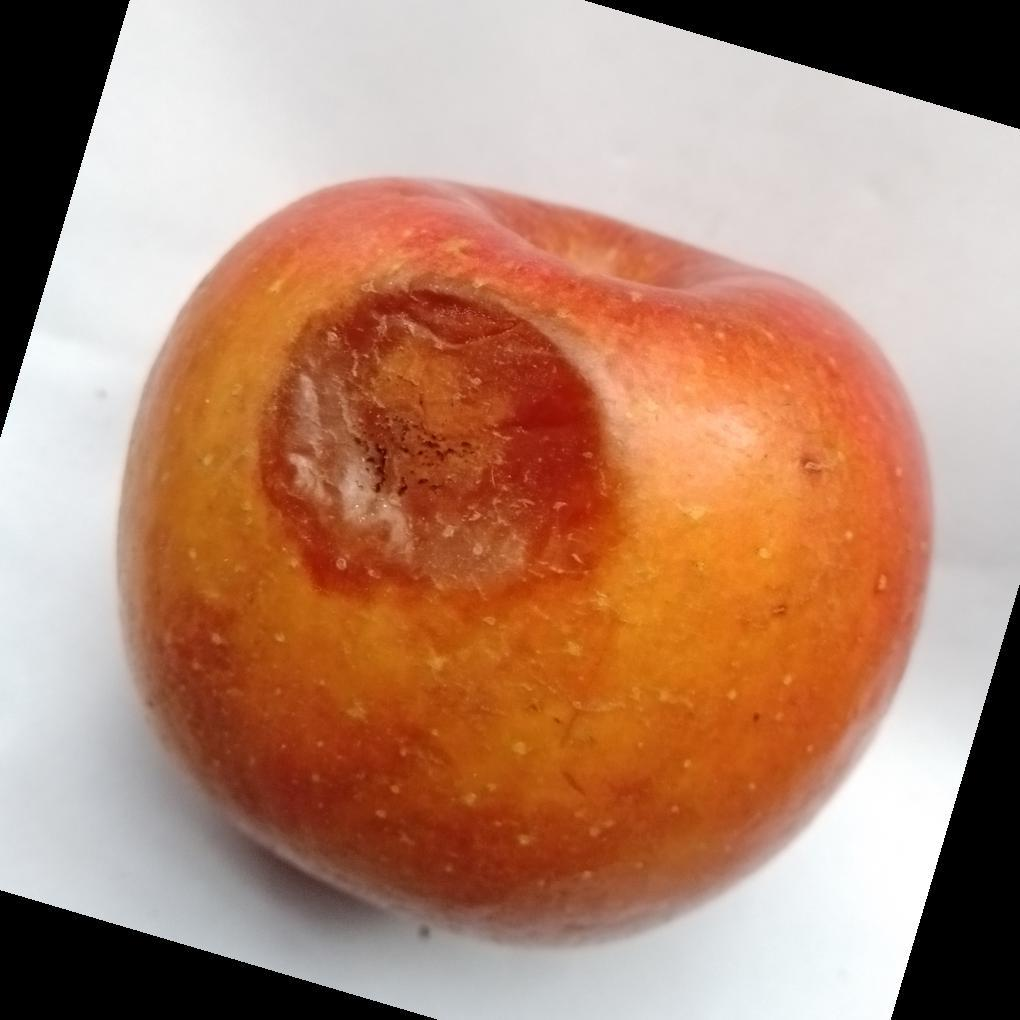FreshOrange: (109, 176, 936, 956)
